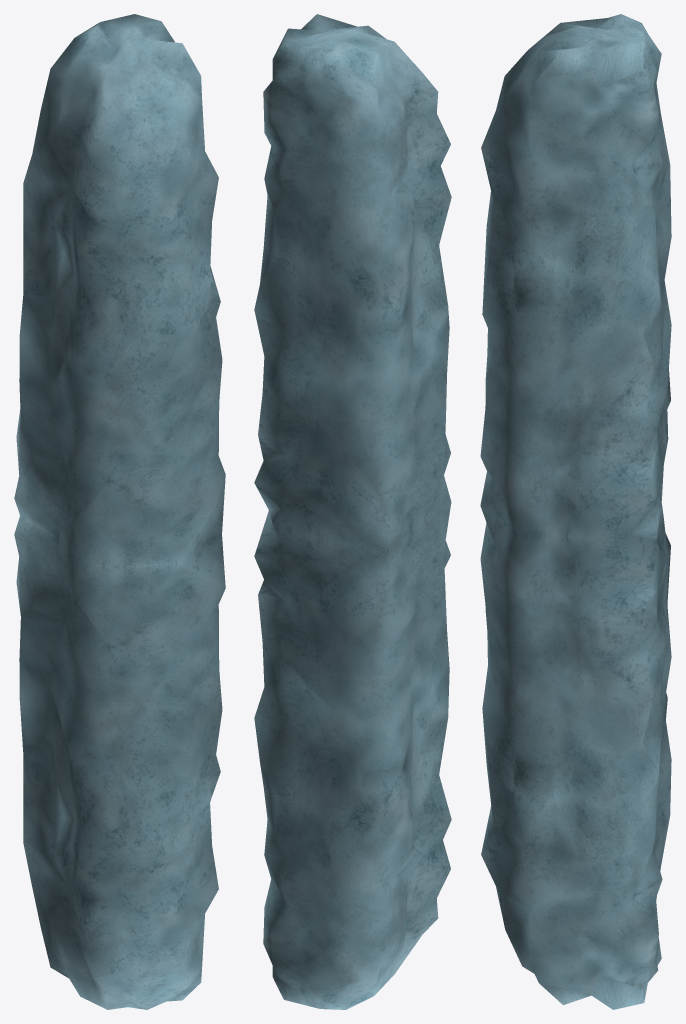
File: Ice_Spire_roop.fbx
3 renders of one model, left to right at view 1: azimuth 30°, elevation 25°; view 2: azimuth 150°, elevation 25°; view 3: azimuth 270°, elevation 25°, orthographic.
Parts seen in each view (by area): view 1: Ice_Spire_roop; view 2: Ice_Spire_roop; view 3: Ice_Spire_roop.
Boxes of the visible parts, x1=… form: Ice_Spire_roop: x1=14, y1=14, x2=225, y2=1009; Ice_Spire_roop: x1=254, y1=14, x2=451, y2=1009; Ice_Spire_roop: x1=480, y1=14, x2=671, y2=1009.
Bounding box in the file's own units: 317 × 1982 × 354.
